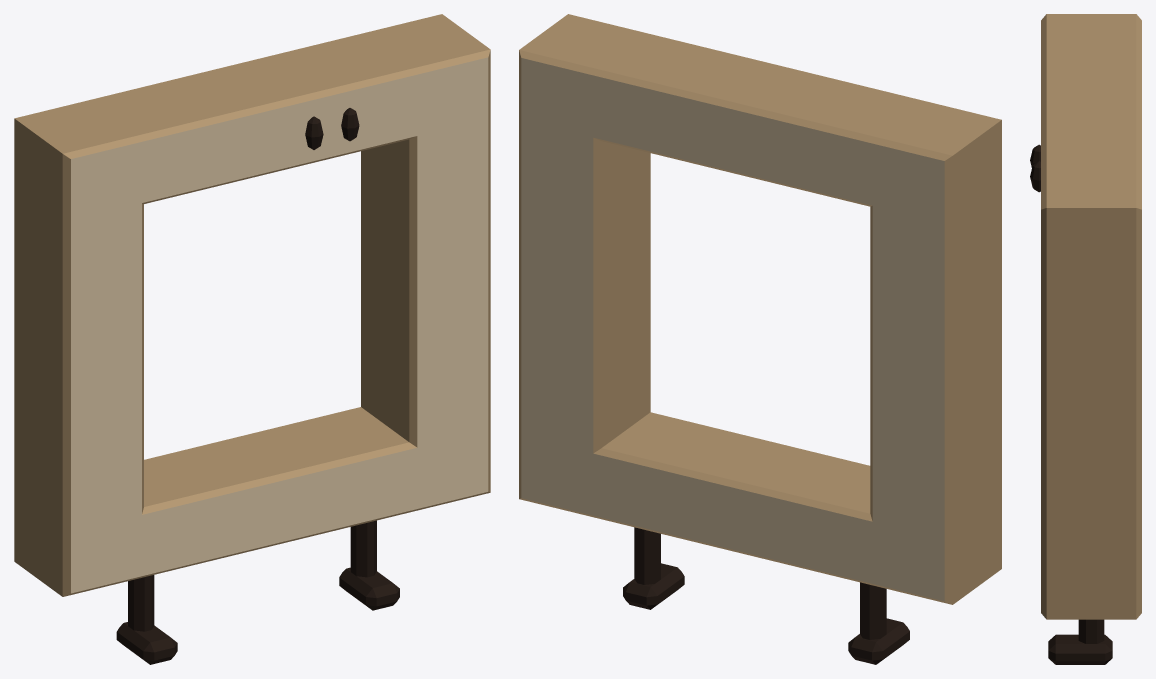
The model's file is mieum.glb.
3 views of the same model, side by side, from view 1: azimuth 30°, elevation 25°; view 2: azimuth 150°, elevation 25°; view 3: azimuth 270°, elevation 25° (orthographic). The views are drawn at different scales.
Parts seen in each view (by area): view 1: Glyph, Leg_L, Leg_R; view 2: Glyph, Leg_R, Leg_L; view 3: Glyph, Leg_R, Eye_R.
Boxes of the visible parts, bbox=[...] form: Glyph: bbox=[14, 14, 490, 596]; Leg_L: bbox=[116, 575, 177, 664]; Leg_R: bbox=[339, 520, 399, 610]; Glyph: bbox=[519, 14, 1001, 604]; Leg_R: bbox=[623, 527, 684, 609]; Leg_L: bbox=[848, 582, 909, 664]; Glyph: bbox=[1041, 14, 1141, 619]; Leg_R: bbox=[1048, 619, 1112, 664]; Eye_R: bbox=[1030, 161, 1040, 192].
Size of the model in its own units: 0.5 by 0.6 by 0.122.
